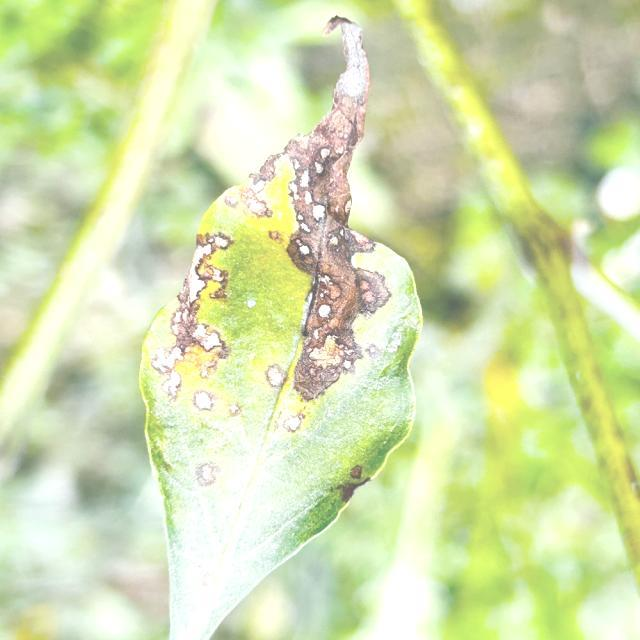Bercak Daun Serkospora: (133, 0, 439, 635)
